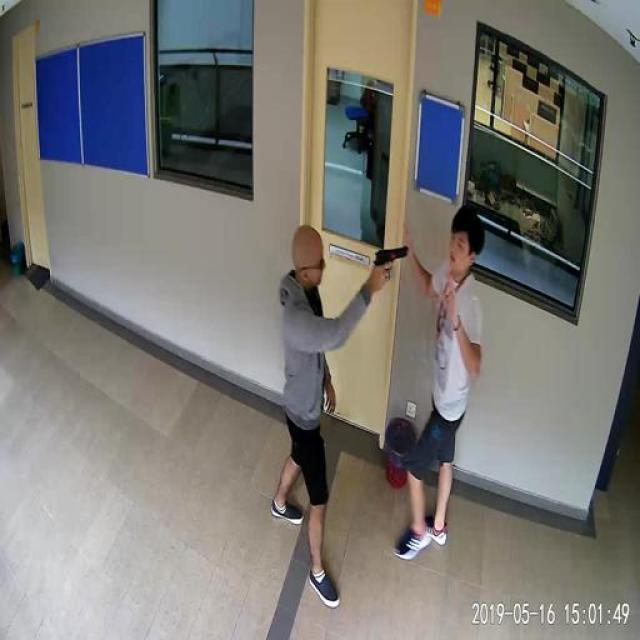Gun: (362, 233, 412, 282)
